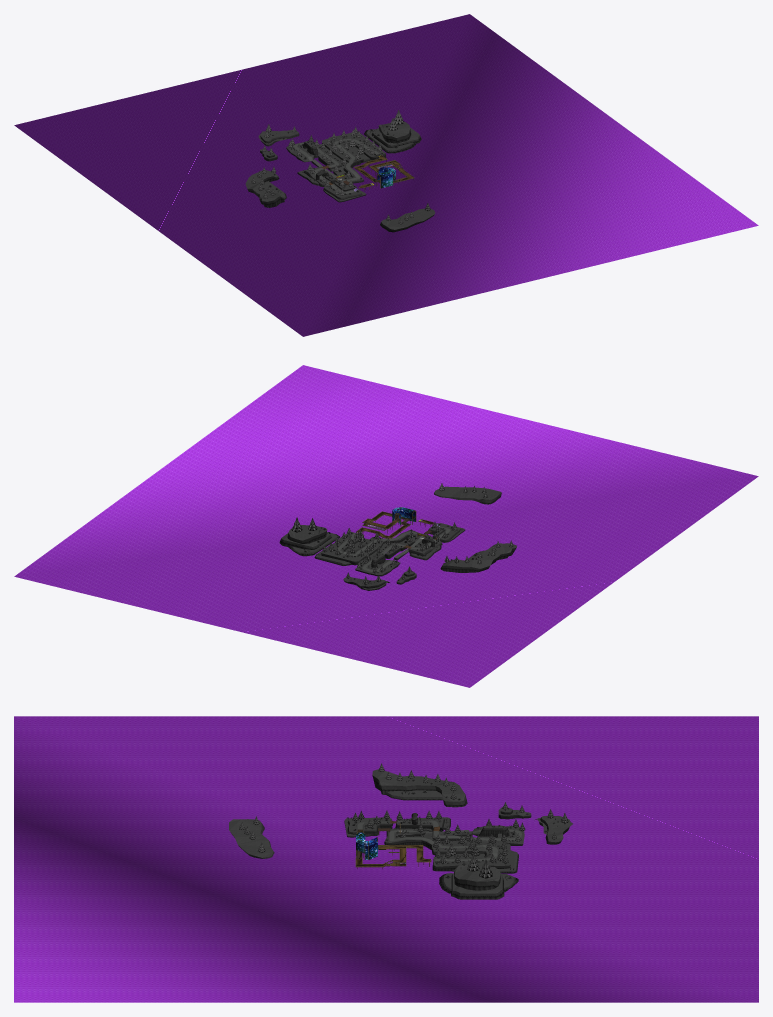
The picture shows the model from 3 angles, top to bottom: view 1: azimuth 30°, elevation 25°; view 2: azimuth 150°, elevation 25°; view 3: azimuth 270°, elevation 25°; orthographic projection. The views are drawn at different scales.
Parts seen in each view (by area): view 1: water_water_oob_water_oob_001_water_polygon4_000, grass_grass_cliff2_PNG_cliff_001_cliff_polygon4_001, wall_grass_cliff2_PNG_cliff_001_cliff_polygon4_000, trees_polygon12_001, road_grass_cliff2_PNG_cliff_001_cliff_polygon4_002; view 2: water_water_oob_water_oob_001_water_polygon4_000, grass_grass_cliff2_PNG_cliff_001_cliff_polygon4_001, wall_grass_cliff2_PNG_cliff_001_cliff_polygon4_000, trees_polygon12_001, road_grass_cliff2_PNG_cliff_001_cliff_polygon4_002; view 3: water_water_oob_water_oob_001_water_polygon4_000, grass_grass_cliff2_PNG_cliff_001_cliff_polygon4_001, wall_grass_cliff2_PNG_cliff_001_cliff_polygon4_000, trees_polygon12_001, road_grass_cliff2_PNG_cliff_001_cliff_polygon4_002, plants_polygon12, light_wood_dark_wood_dark_wood_in_wood_road_polygon4_000, blocks_blocks_blocks_blocks_polygon4_004.
Boxes of the visible parts, bbox=[...] form: water_water_oob_water_oob_001_water_polygon4_000: bbox=[14, 14, 758, 336]; grass_grass_cliff2_PNG_cliff_001_cliff_polygon4_001: bbox=[245, 121, 435, 229]; wall_grass_cliff2_PNG_cliff_001_cliff_polygon4_000: bbox=[247, 126, 434, 232]; trees_polygon12_001: bbox=[251, 110, 430, 224]; road_grass_cliff2_PNG_cliff_001_cliff_polygon4_002: bbox=[293, 138, 379, 193]; water_water_oob_water_oob_001_water_polygon4_000: bbox=[14, 365, 758, 687]; grass_grass_cliff2_PNG_cliff_001_cliff_polygon4_001: bbox=[281, 486, 516, 589]; wall_grass_cliff2_PNG_cliff_001_cliff_polygon4_000: bbox=[279, 493, 516, 590]; trees_polygon12_001: bbox=[291, 483, 513, 585]; road_grass_cliff2_PNG_cliff_001_cliff_polygon4_002: bbox=[337, 526, 450, 571]; water_water_oob_water_oob_001_water_polygon4_000: bbox=[14, 716, 758, 1002]; grass_grass_cliff2_PNG_cliff_001_cliff_polygon4_001: bbox=[229, 769, 572, 893]; wall_grass_cliff2_PNG_cliff_001_cliff_polygon4_000: bbox=[230, 775, 570, 899]; trees_polygon12_001: bbox=[239, 763, 568, 879]; road_grass_cliff2_PNG_cliff_001_cliff_polygon4_002: bbox=[357, 820, 521, 861]; plants_polygon12: bbox=[347, 779, 561, 879]; light_wood_dark_wood_dark_wood_in_wood_road_polygon4_000: bbox=[356, 830, 431, 866]; blocks_blocks_blocks_blocks_polygon4_004: bbox=[355, 823, 430, 867].
Size of the model in its own units: 400592 by 29704 by 440032.
Materials: 19 (19 with a texture image).
